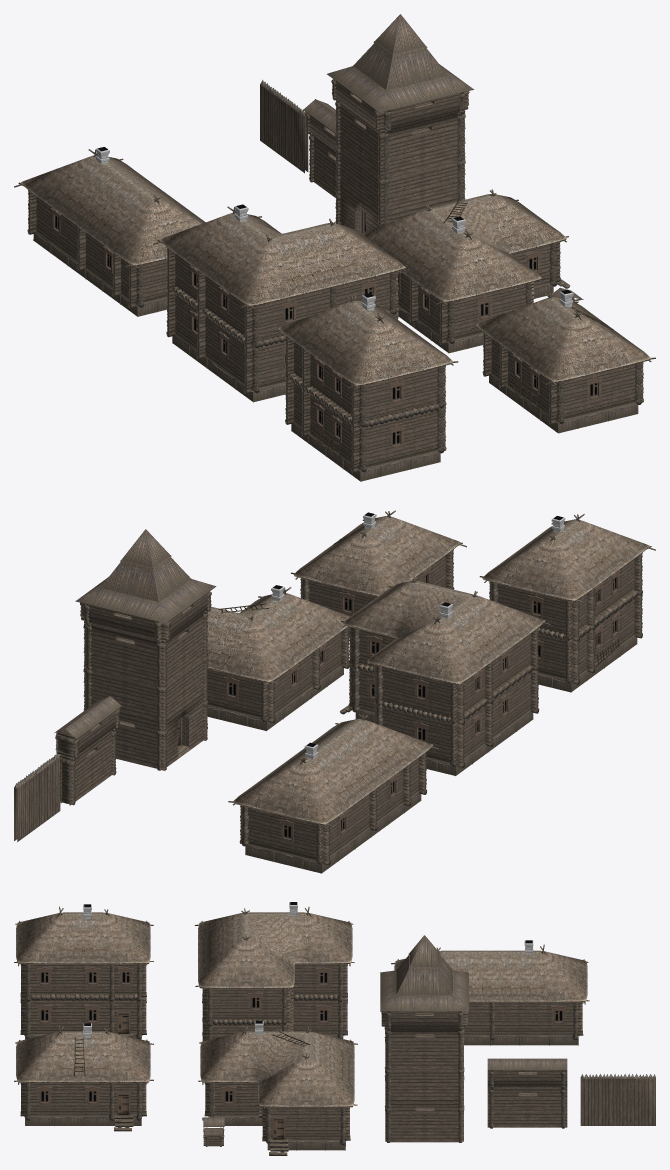
Rendered from log_building.glb.
The picture shows the model from 3 angles, top to bottom: view 1: azimuth 30°, elevation 25°; view 2: azimuth 150°, elevation 25°; view 3: azimuth 270°, elevation 25°; orthographic projection. The views are drawn at different scales.
Visible parts, largest first — view 1: House_5, House_4, Object005_Mat_city_0, House_2, House_3, House_1, Object006_Mat_city_0, Wall_tip_A; view 2: House_5, Object005_Mat_city_0, House_3, House_4, House_2, House_1, Wall_tip_A, Object006_Mat_city_0; view 3: House_5, House_2, House_4, Object005_Mat_city_0, House_1, House_3, Wall_tip_A, Object006_Mat_city_0, well.
Boxes of the visible parts, box(x1,y1,x2,y2) form: House_5: box(153, 204, 407, 402); House_4: box(273, 293, 458, 481); Object005_Mat_city_0: box(327, 14, 473, 233); House_2: box(361, 189, 570, 353); House_3: box(14, 147, 205, 316); House_1: box(471, 289, 655, 433); Object006_Mat_city_0: box(260, 80, 308, 173); Wall_tip_A: box(303, 99, 336, 197); House_5: box(340, 576, 550, 775); Object005_Mat_city_0: box(75, 529, 216, 770); House_3: box(228, 714, 438, 873); House_4: box(479, 514, 655, 692); House_2: box(207, 585, 349, 731); House_1: box(291, 510, 466, 637); Wall_tip_A: box(54, 696, 121, 805); Object006_Mat_city_0: box(14, 753, 60, 841); House_5: box(194, 902, 354, 1040); House_2: box(198, 1020, 357, 1155); House_4: box(14, 904, 153, 1039); Object005_Mat_city_0: box(380, 935, 468, 1142); House_1: box(14, 1023, 153, 1131); House_3: box(391, 940, 589, 1045); Wall_tip_A: box(487, 1058, 567, 1128); Object006_Mat_city_0: box(580, 1074, 655, 1125); well: box(202, 1117, 225, 1146).
Bounding box in the file's own units: 3109 × 1814 × 5538.
1 material, 1 textured.
